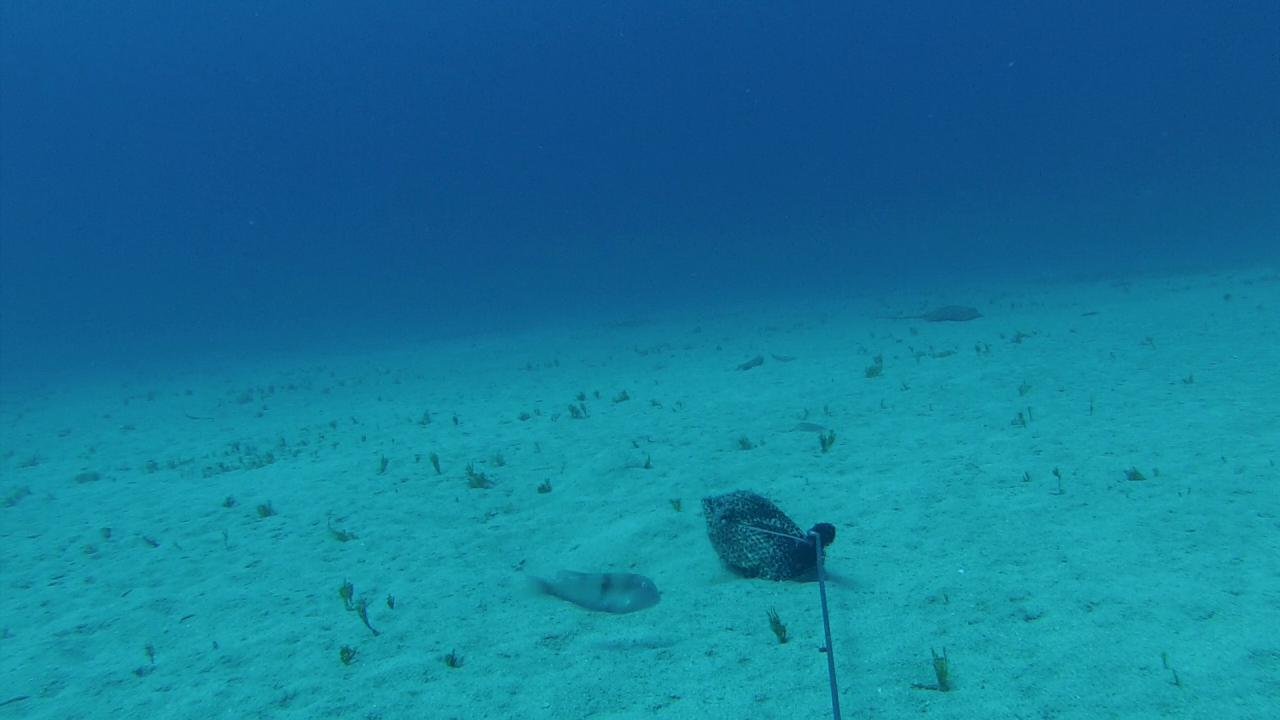dasyatis: (875, 303, 982, 323)
raor: (522, 567, 665, 620)
